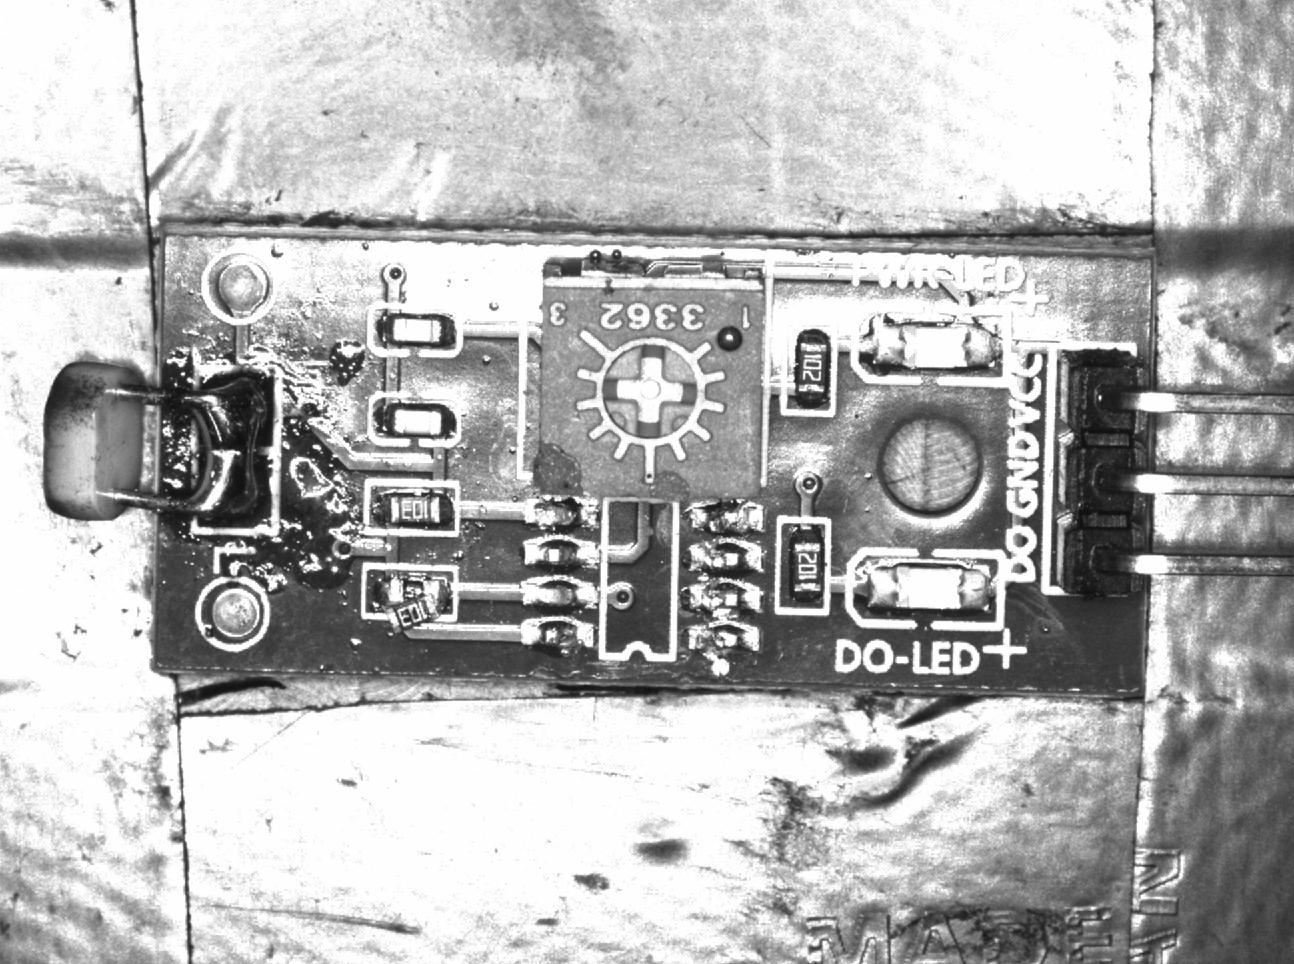bridge: (191, 361, 279, 537)
lifted: (363, 563, 459, 643)
ok: (363, 303, 464, 361), (369, 394, 465, 455), (363, 479, 460, 539), (783, 321, 839, 418), (779, 519, 828, 613)
